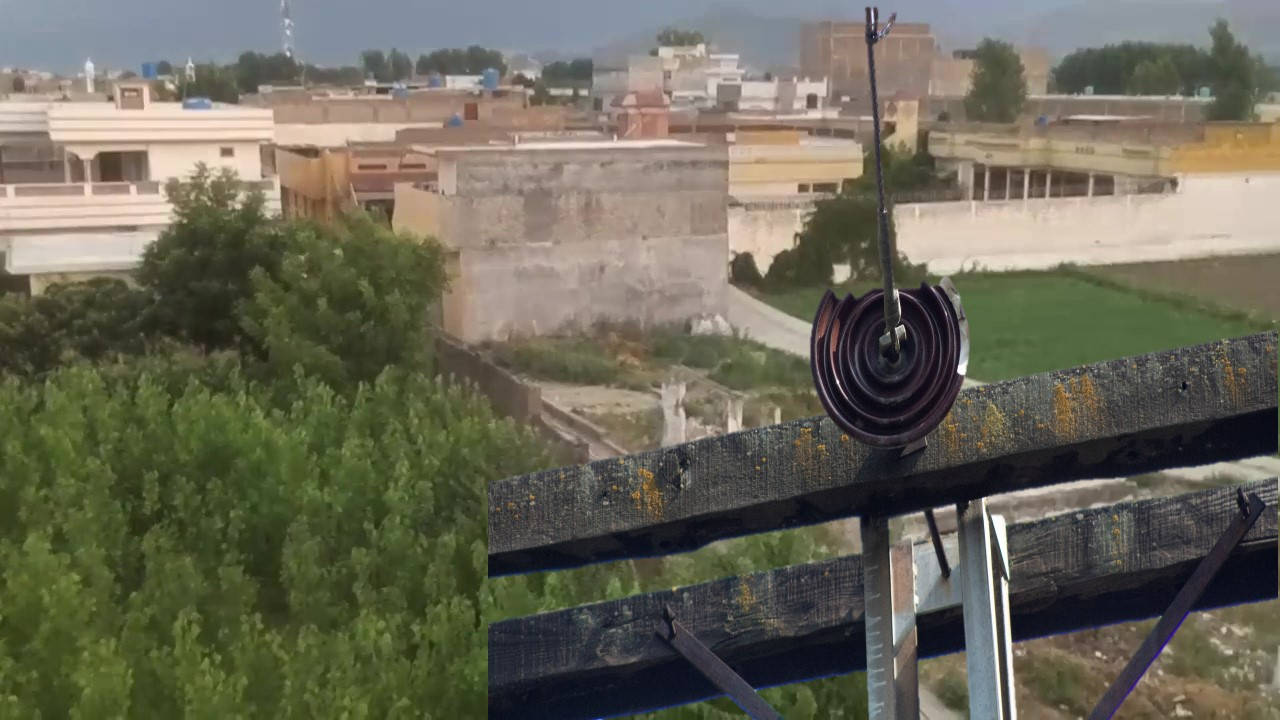defect_disc: (802, 267, 975, 452)
